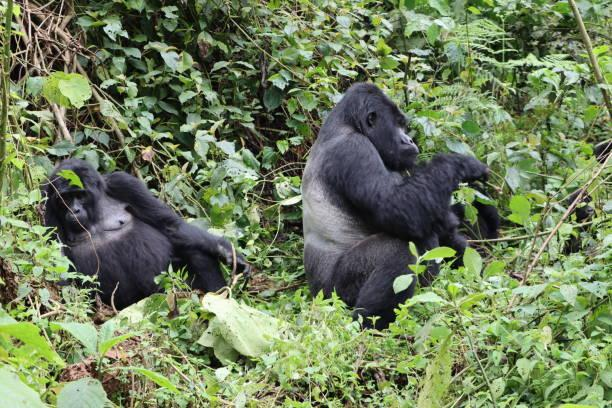goriile_montagne: (282, 68, 506, 338), (29, 137, 247, 323)
